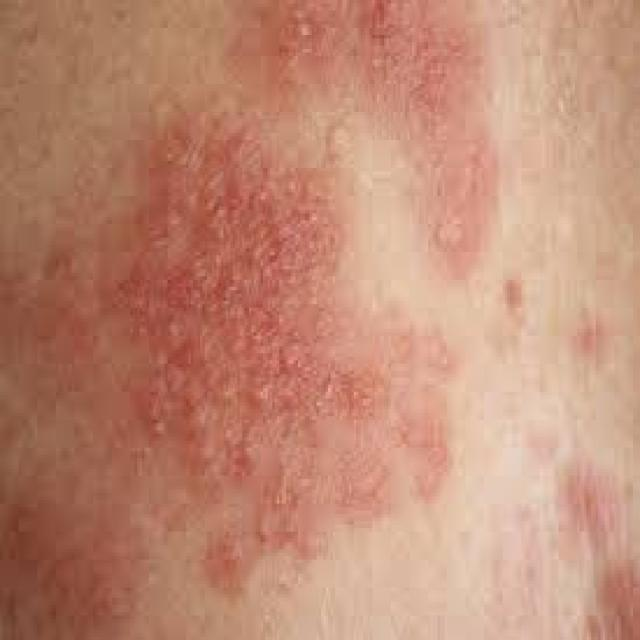Eczema: (131, 131, 480, 596), (254, 8, 485, 116)
